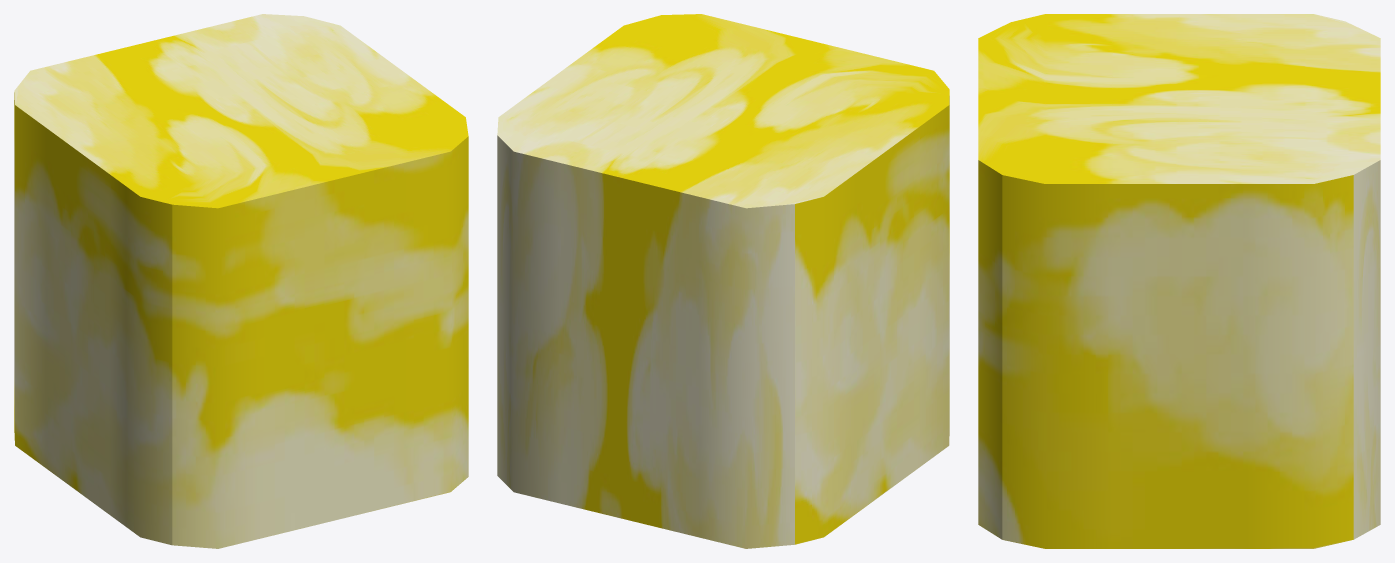
Rendered from sky_cube_y.fbx.
The picture shows the model from 3 angles, left to right: view 1: azimuth 30°, elevation 25°; view 2: azimuth 150°, elevation 25°; view 3: azimuth 270°, elevation 25°; orthographic projection. The views are drawn at different scales.
Visible parts, largest first — view 1: pCube1; view 2: pCube1; view 3: pCube1.
Part boxes in pixels (x1,y1,x2,y2): pCube1: (14,14,468,548); pCube1: (497,14,949,548); pCube1: (978,14,1380,548).
Size of the model in its own units: 9.78 by 9.78 by 9.78.
1 material, 1 textured.
